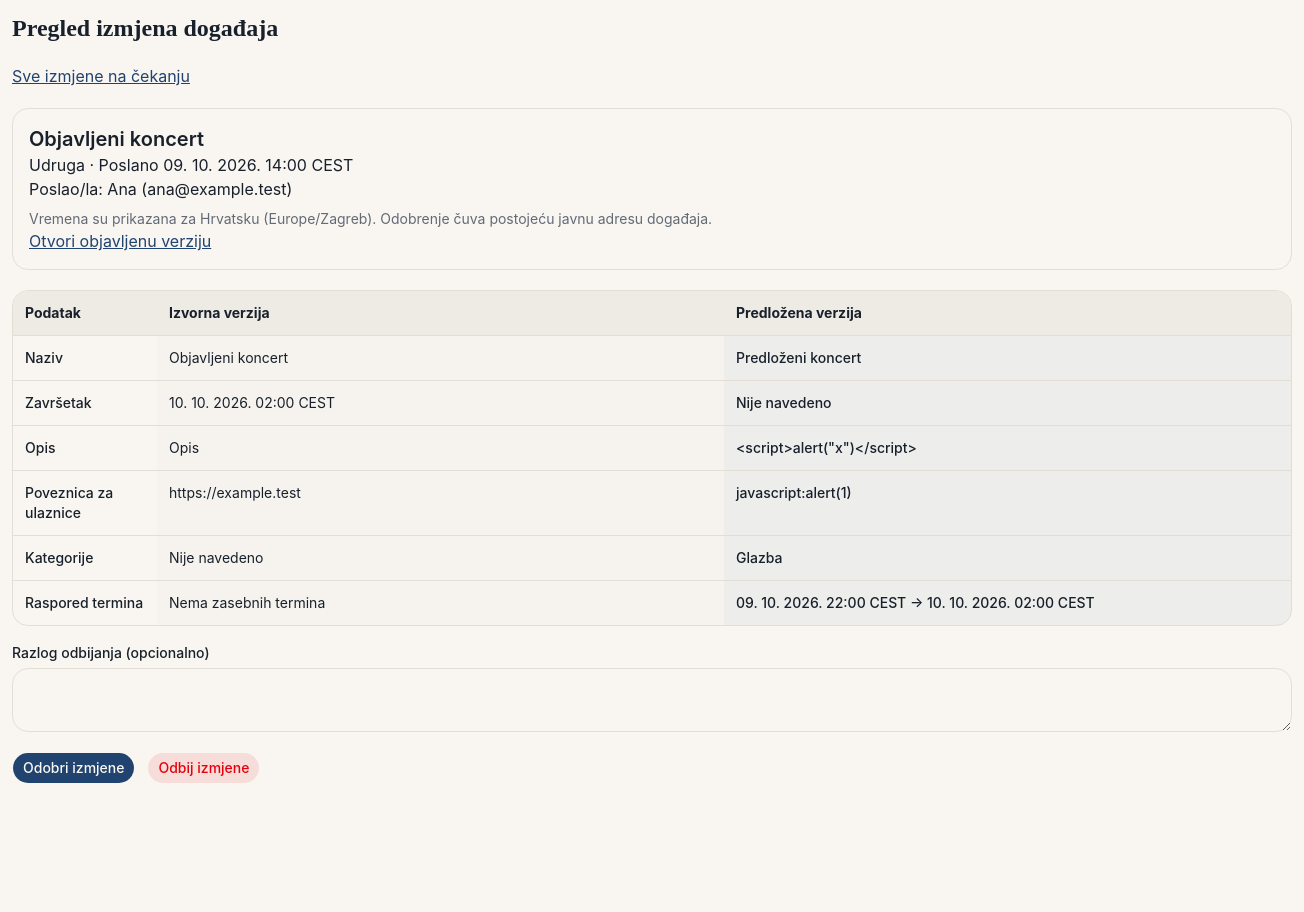
Test: event revision review › approves the exact version and refreshes the notification count
The image size is (1304, 912).
Click the button "Odobri izmjene". click: (74, 768)
box: [12, 752, 136, 784]
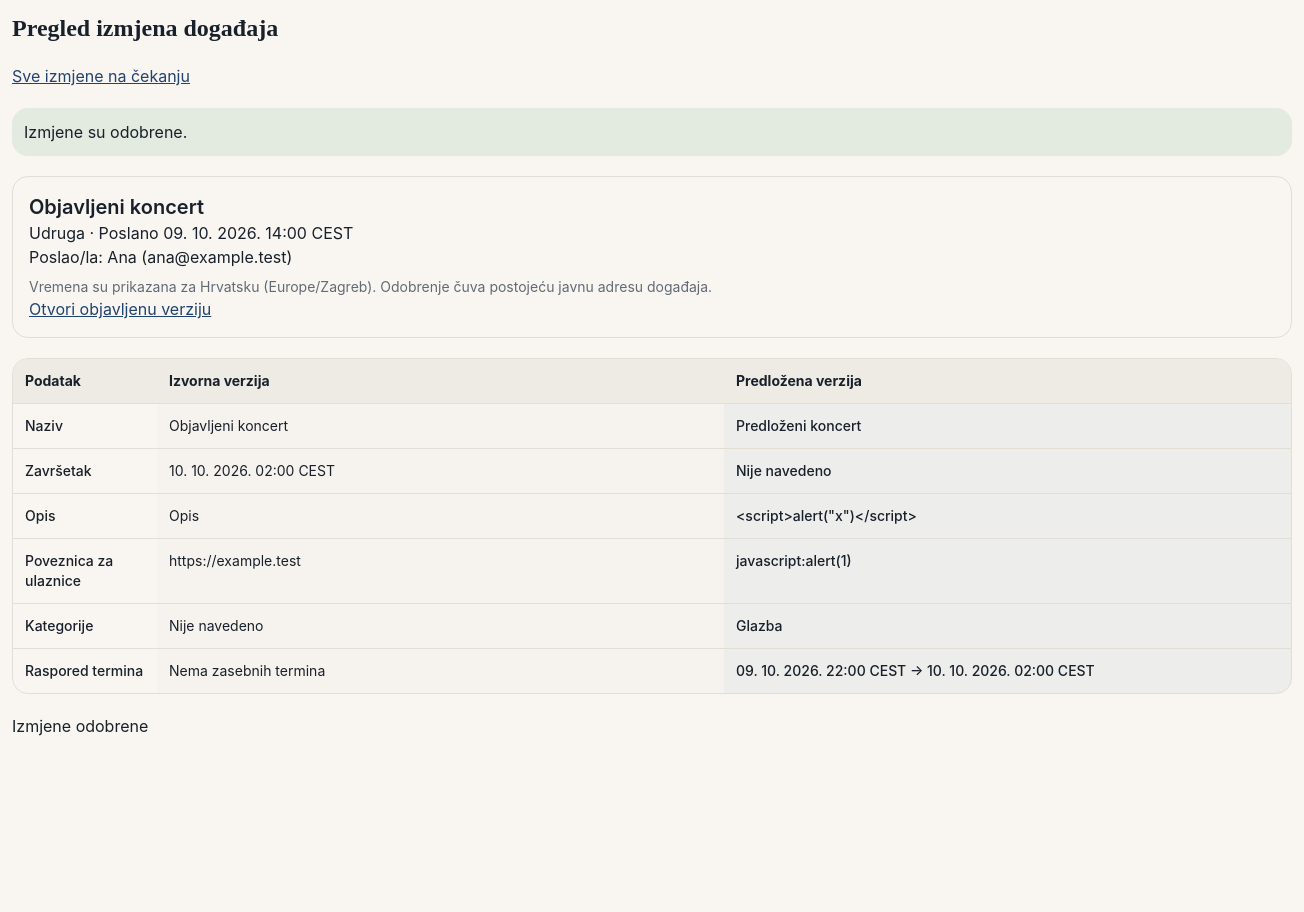
Now the text "Izmjene su odobrene." is shown, box [12, 108, 1292, 156]
